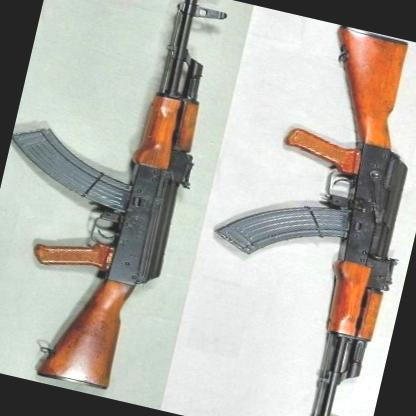rifle: (175, 7, 416, 416), (0, 0, 243, 399)
